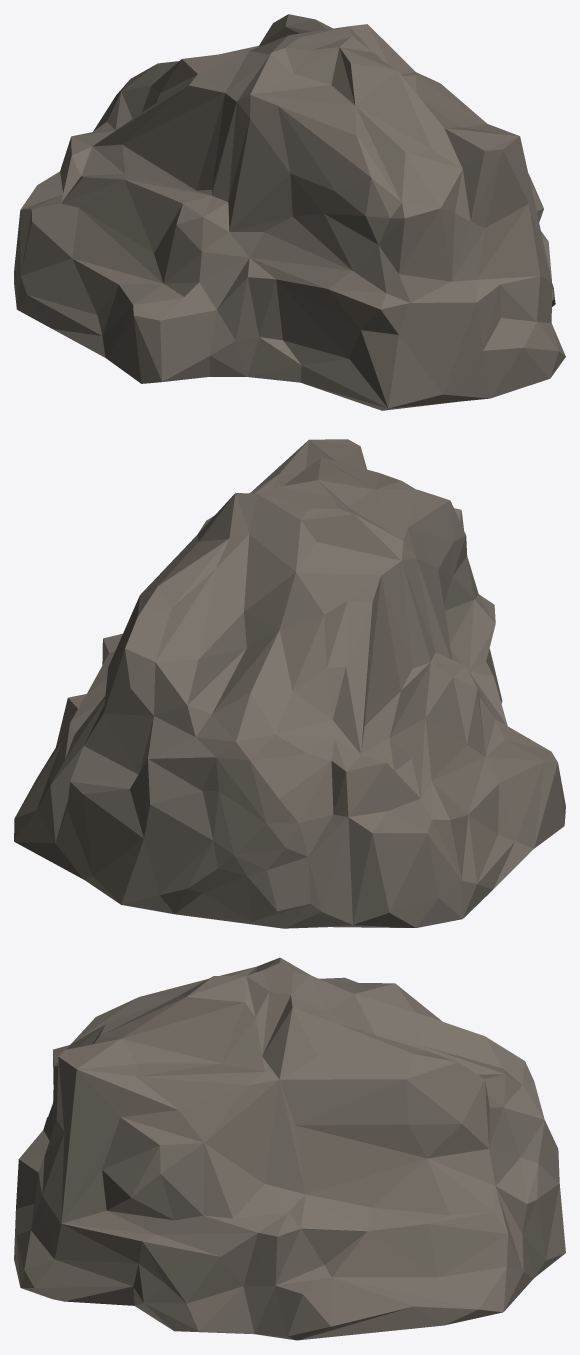
Rendered from SM_Env_Rock_Huge_03.fbx.glb.
The picture shows the model from 3 angles, top to bottom: view 1: azimuth 30°, elevation 25°; view 2: azimuth 150°, elevation 25°; view 3: azimuth 270°, elevation 25°; orthographic projection. The views are drawn at different scales.
Visible parts, largest first — view 1: node_id4; view 2: node_id4; view 3: node_id4.
Part boxes in pixels (x1,y1,x2,y2): node_id4: (14,14,565,410); node_id4: (14,439,565,928); node_id4: (14,957,565,1340).
Bounding box in the file's own units: 0.512 × 0.3176 × 0.5796.
Materials: 1 (1 with a texture image).
